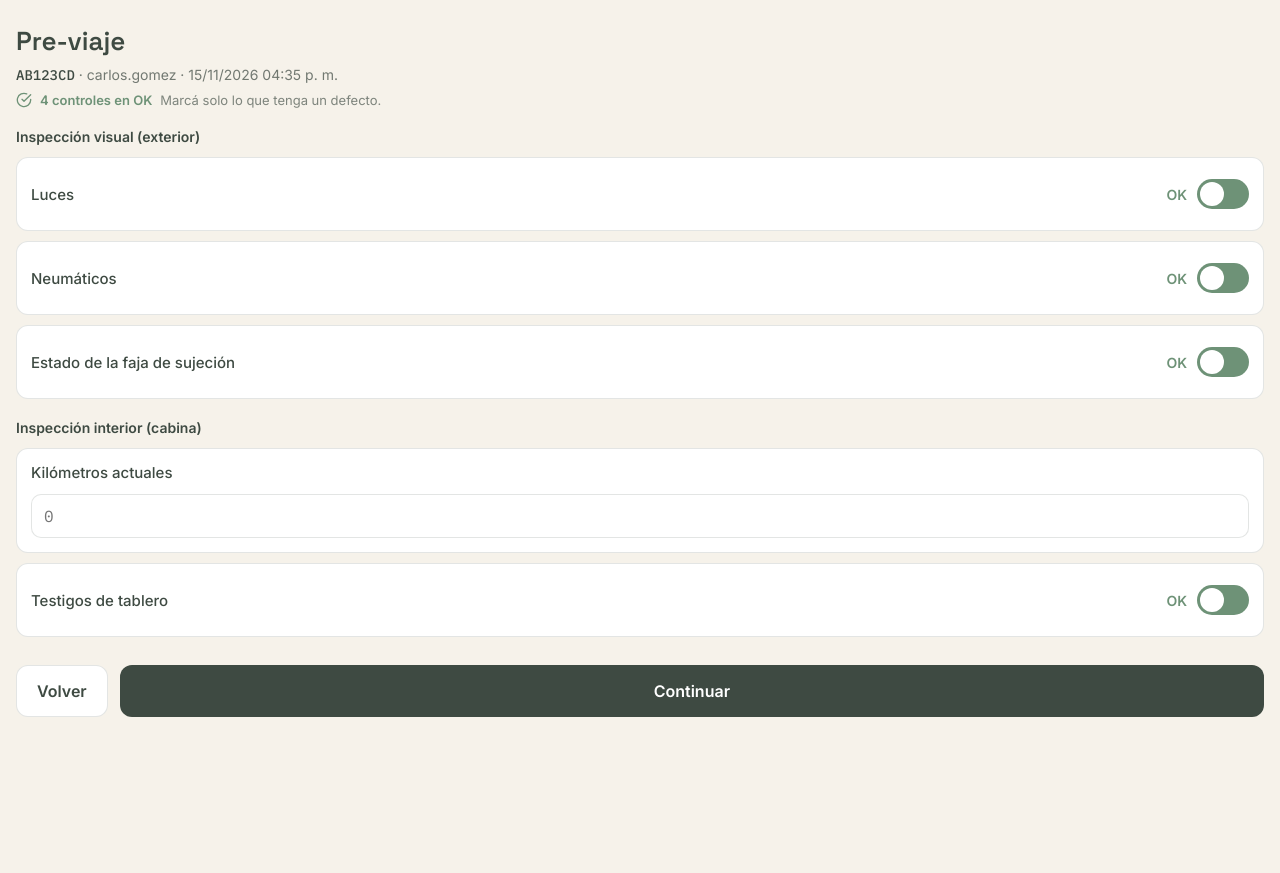
Test: InspectionFlow — cubiertas con problemas (CAM-157) › el dibujo aparece recién al marcar Neumáticos con defecto
Expected: the heading "Pre-viaje" is shown, x1=16 y1=24 x2=126 y2=58
Expected: the text "¿Qué cubierta tiene el problema?" is not shown
Click the switch named "Neumáticos: reportar defecto". click: (1208, 278)
box: x1=1166 y1=256 x2=1249 y2=300
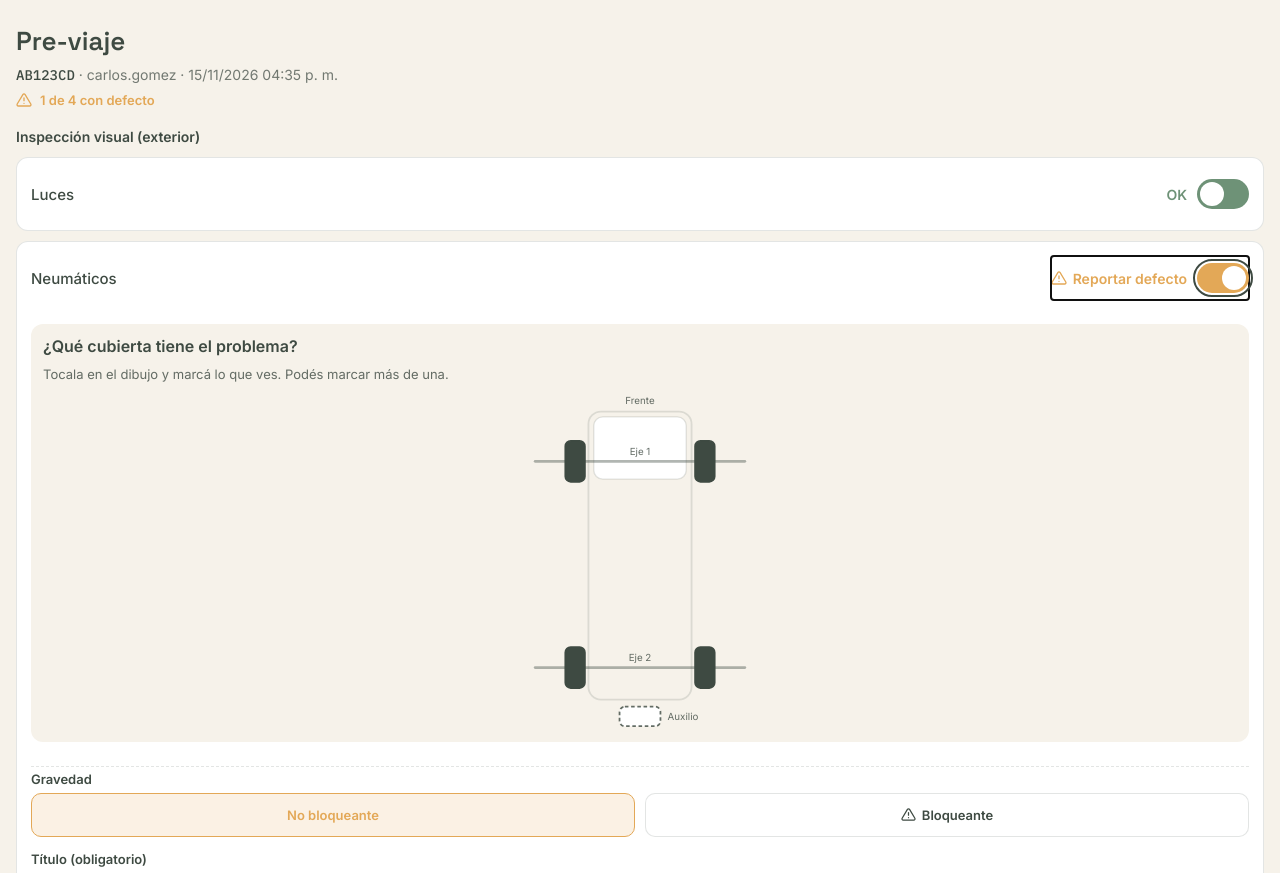
Result: the text "¿Qué cubierta tiene el problema?" is shown at x1=43 y1=336 x2=298 y2=356
